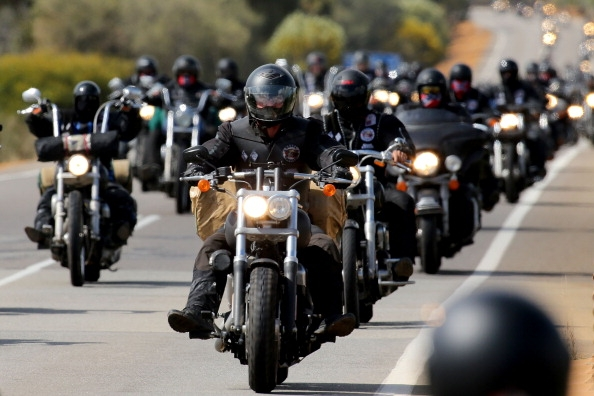helmet: (243, 64, 296, 121), (331, 67, 369, 108)
